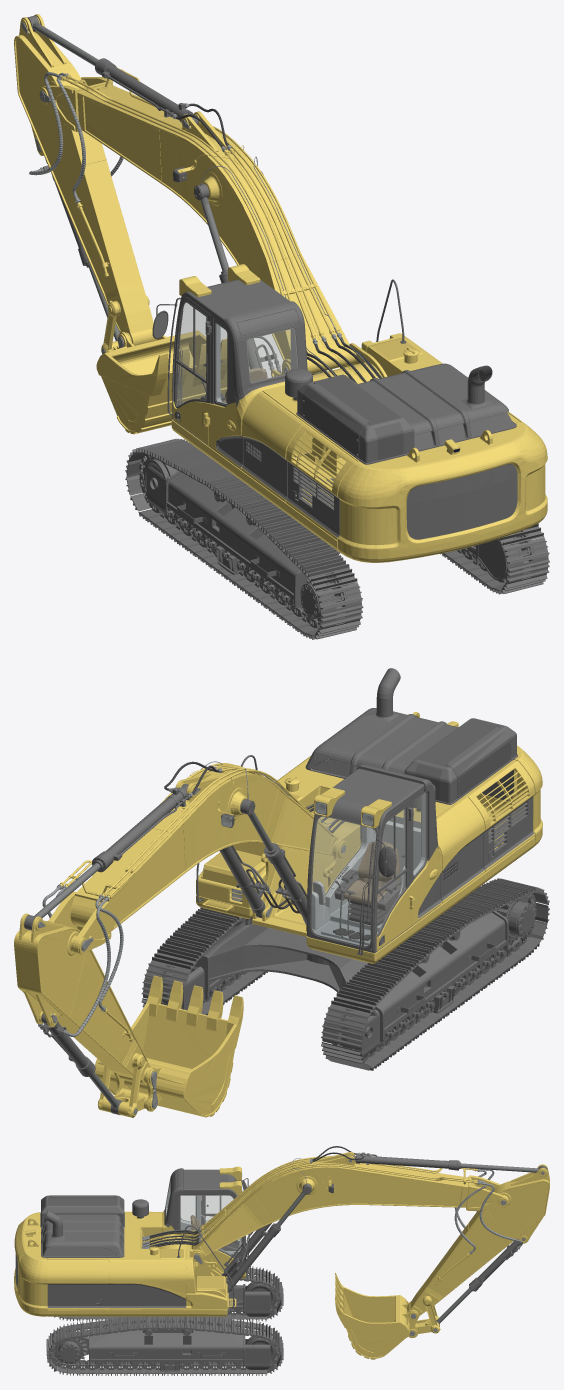
The model's file is excavator.glb.
The picture shows the model from 3 angles, top to bottom: view 1: azimuth 30°, elevation 25°; view 2: azimuth 150°, elevation 25°; view 3: azimuth 270°, elevation 25°; orthographic projection. The views are drawn at different scales.
Parts seen in each view (by area): view 1: CAT_336_75_12, CAT_336_75_3, CAT_336_75_19, CAT_336_75_7, CAT_336_75_6, CAT_336_75_13, CAT_336_75_18, CAT_336_75_17, CAT_336_75_15, CAT_336_75_1, CAT_336_75_5; view 2: CAT_336_75_12, CAT_336_75_3, CAT_336_75_7, CAT_336_75_13, CAT_336_75_6, CAT_336_75_4, CAT_336_75_18, CAT_336_75_2, CAT_336_75_17, CAT_336_75_1, CAT_336_75_0, CAT_336_75_15 (+2 smaller); view 3: CAT_336_75_12, CAT_336_75_3, CAT_336_75_13, CAT_336_75_7, CAT_336_75_17, CAT_336_75_18, CAT_336_75_1, CAT_336_75_15, CAT_336_75_6, CAT_336_75_20, CAT_336_75_4, CAT_336_75_22.
Part boxes in pixels (x1=…): CAT_336_75_12: x1=14, y1=14, x2=547, y2=562; CAT_336_75_3: x1=27, y1=15, x2=549, y2=639; CAT_336_75_19: x1=406, y1=464, x2=517, y2=539; CAT_336_75_7: x1=176, y1=302, x2=298, y2=406; CAT_336_75_6: x1=302, y1=375, x2=403, y2=460; CAT_336_75_13: x1=242, y1=436, x2=339, y2=537; CAT_336_75_18: x1=21, y1=22, x2=379, y2=378; CAT_336_75_17: x1=111, y1=112, x2=160, y2=180; CAT_336_75_15: x1=33, y1=24, x2=296, y2=497; CAT_336_75_1: x1=175, y1=103, x2=381, y2=384; CAT_336_75_5: x1=237, y1=309, x2=298, y2=336; CAT_336_75_12: x1=14, y1=712, x2=542, y2=1117; CAT_336_75_3: x1=24, y1=708, x2=549, y2=1114; CAT_336_75_7: x1=310, y1=792, x2=425, y2=946; CAT_336_75_13: x1=440, y1=795, x2=534, y2=901; CAT_336_75_6: x1=414, y1=719, x2=511, y2=800; CAT_336_75_4: x1=311, y1=793, x2=425, y2=931; CAT_336_75_18: x1=38, y1=761, x2=345, y2=1114; CAT_336_75_2: x1=221, y1=801, x2=404, y2=910; CAT_336_75_17: x1=137, y1=828, x2=185, y2=906; CAT_336_75_1: x1=164, y1=761, x2=390, y2=956; CAT_336_75_0: x1=344, y1=841, x2=399, y2=906; CAT_336_75_15: x1=35, y1=812, x2=492, y2=1106; CAT_336_75_12: x1=14, y1=1152, x2=549, y2=1359; CAT_336_75_3: x1=40, y1=1152, x2=547, y2=1375; CAT_336_75_13: x1=47, y1=1283, x2=184, y2=1307; CAT_336_75_7: x1=166, y1=1185, x2=245, y2=1257; CAT_336_75_17: x1=370, y1=1176, x2=430, y2=1205; CAT_336_75_18: x1=142, y1=1152, x2=544, y2=1336; CAT_336_75_1: x1=149, y1=1146, x2=364, y2=1279; CAT_336_75_15: x1=98, y1=1163, x2=538, y2=1323; CAT_336_75_6: x1=41, y1=1196, x2=124, y2=1209; CAT_336_75_20: x1=161, y1=1249, x2=224, y2=1288; CAT_336_75_4: x1=166, y1=1184, x2=240, y2=1254; CAT_336_75_22: x1=46, y1=1210, x2=62, y2=1237.
Bounding box in the file's own units: 34.7 × 46.05 × 114.
